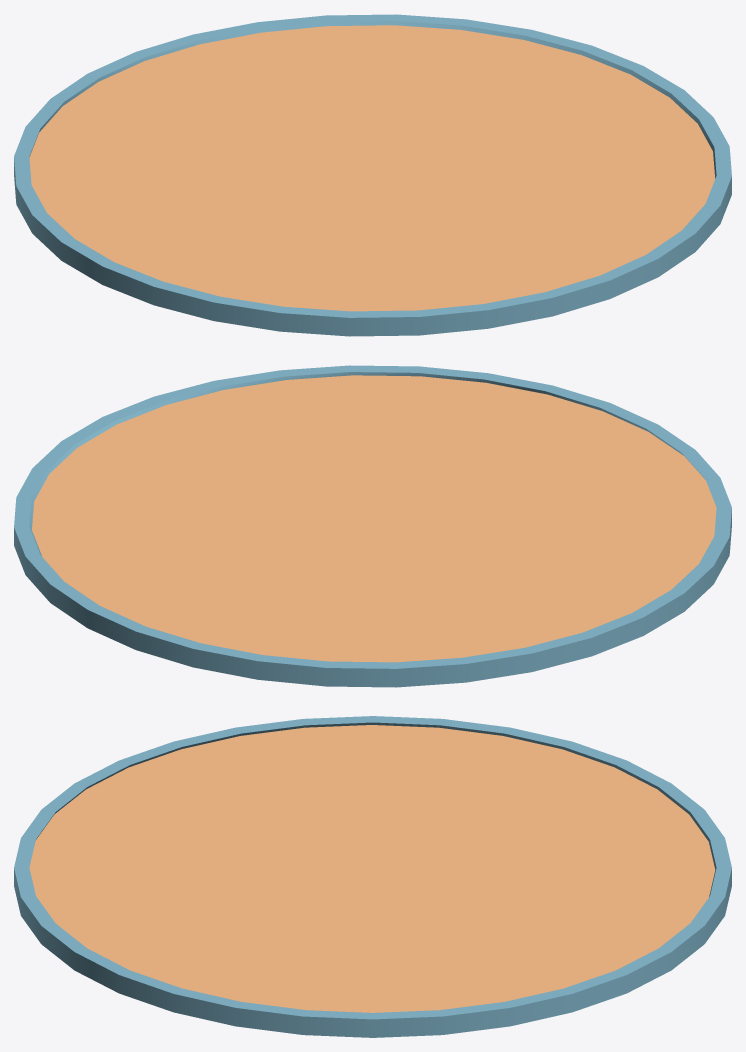
Rendered from Platform D.fbx.
The picture shows the model from 3 angles, top to bottom: view 1: azimuth 30°, elevation 25°; view 2: azimuth 150°, elevation 25°; view 3: azimuth 270°, elevation 25°; orthographic projection.
Parts seen in each view (by area): view 1: Platform D; view 2: Platform D; view 3: Platform D.
Boxes of the visible parts, x1,y1,x2,y2 form: Platform D: [14, 14, 731, 336]; Platform D: [14, 365, 731, 687]; Platform D: [14, 716, 731, 1037].
Size of the model in its own units: 2386 by 67.99 by 2386.
